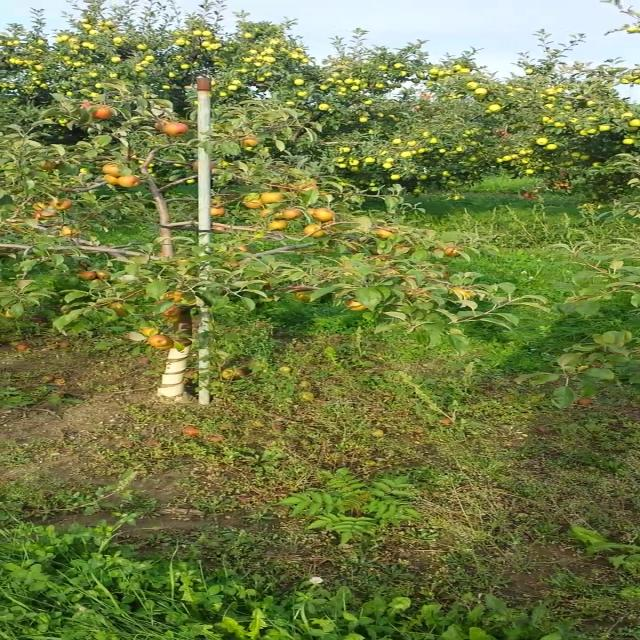apple: (165, 122, 188, 136), (260, 192, 284, 205), (311, 207, 331, 221), (161, 304, 182, 317), (93, 106, 112, 120), (192, 160, 218, 170), (118, 176, 139, 188), (107, 301, 125, 315), (305, 225, 324, 238), (155, 337, 174, 350), (449, 287, 472, 297), (347, 299, 366, 311), (163, 291, 182, 303), (103, 163, 119, 177), (149, 334, 167, 346), (154, 118, 168, 132), (284, 208, 300, 220), (269, 220, 288, 230), (260, 208, 278, 218), (55, 199, 71, 210), (245, 199, 262, 209), (62, 226, 76, 238), (377, 230, 393, 240), (141, 327, 155, 338), (300, 184, 318, 192), (31, 202, 49, 210), (211, 206, 225, 216), (233, 245, 250, 253), (81, 271, 96, 280), (444, 248, 460, 256), (294, 292, 310, 300), (105, 176, 117, 186), (244, 138, 258, 146), (210, 225, 227, 231), (170, 312, 180, 322), (97, 272, 109, 280), (43, 162, 57, 168), (306, 208, 316, 216), (32, 211, 41, 219), (81, 104, 92, 108)
